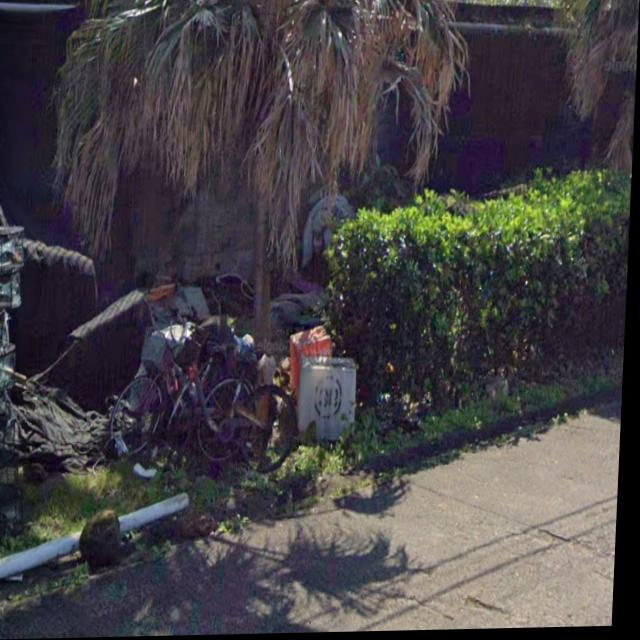pollute: (0, 108, 101, 537), (98, 316, 283, 476), (288, 323, 363, 439)
